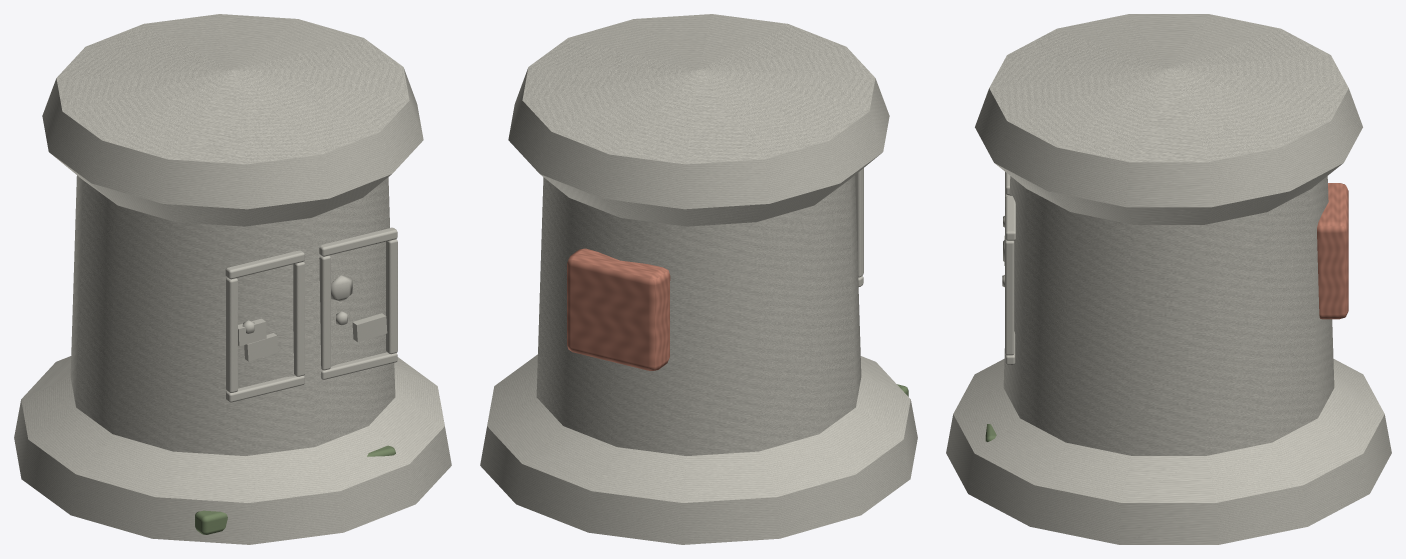
The model's file is jungle-temple-and-stone-city-ball-court-end-marker-94e4e35a__36110.glb.
The picture shows the model from 3 angles, left to right: view 1: azimuth 30°, elevation 25°; view 2: azimuth 150°, elevation 25°; view 3: azimuth 270°, elevation 25°; orthographic projection.
Visible parts, largest first — view 1: ball-court-end-marker; view 2: ball-court-end-marker; view 3: ball-court-end-marker.
Boxes of the visible parts, <box> form: ball-court-end-marker: <box>14,14,451,544</box>; ball-court-end-marker: <box>480,14,917,544</box>; ball-court-end-marker: <box>946,14,1391,544</box>.
Size of the model in its own units: 1.21 by 1.18 by 1.24.
Materials: 3 (3 with a texture image).
